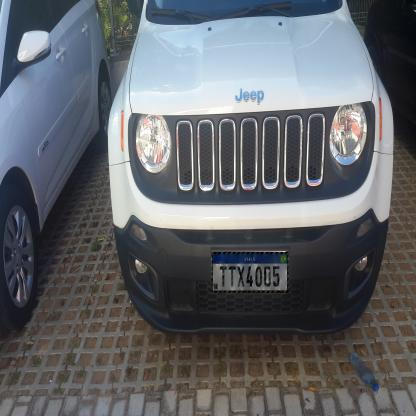PlacaM: (211, 252, 288, 293)
